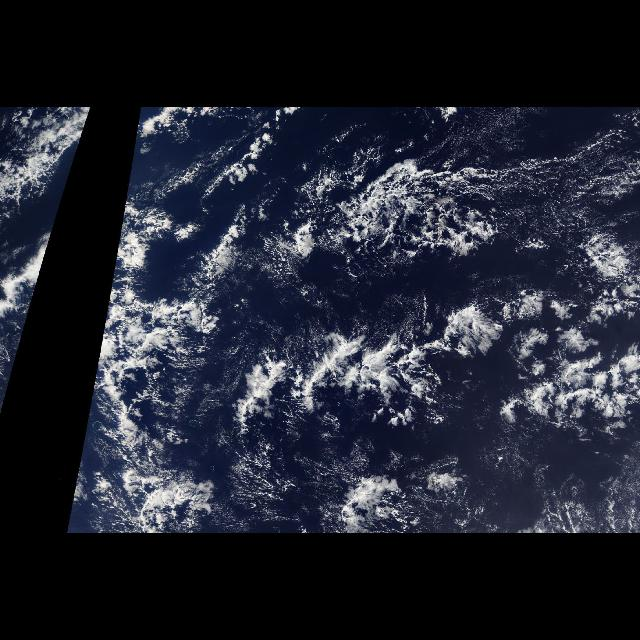Sugar: (474, 110, 638, 230)
